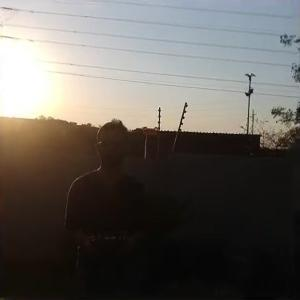follow: (58, 114, 152, 298)
